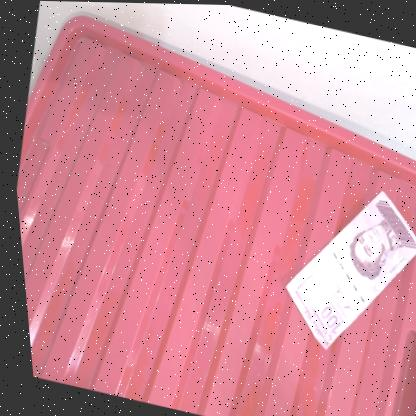one_hundred-front-vef: (259, 167, 416, 367)
